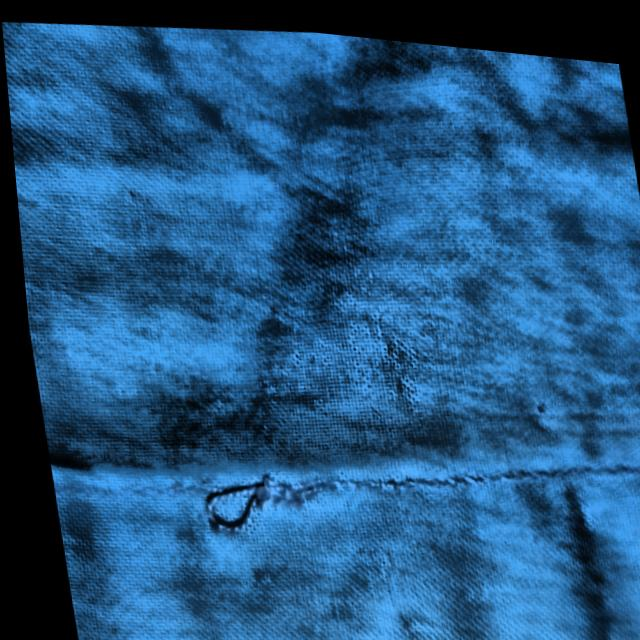Stitch: (164, 411, 339, 574)
